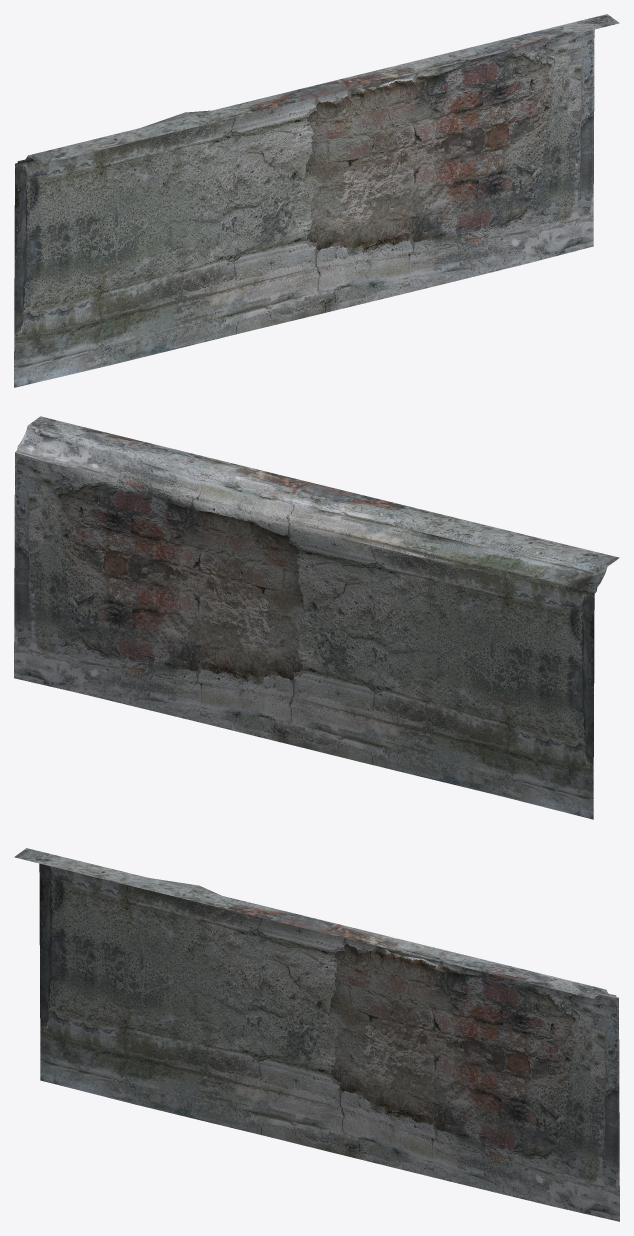
Rendered from SM_ChapelWall_05_03_OneSide.fbx.
3 views of the same model, one above another, from view 1: azimuth 30°, elevation 25°; view 2: azimuth 150°, elevation 25°; view 3: azimuth 330°, elevation 25° (orthographic).
Parts seen in each view (by area): view 1: sm_ChapelWall_05_03_OneSide_LOD0; view 2: sm_ChapelWall_05_03_OneSide_LOD0; view 3: sm_ChapelWall_05_03_OneSide_LOD0.
Part boxes in pixels (x1,y1,x2,y2): sm_ChapelWall_05_03_OneSide_LOD0: (14,14,619,387); sm_ChapelWall_05_03_OneSide_LOD0: (14,416,619,819); sm_ChapelWall_05_03_OneSide_LOD0: (14,848,619,1221).
Size of the model in its own units: 20.69 by 250 by 100.
